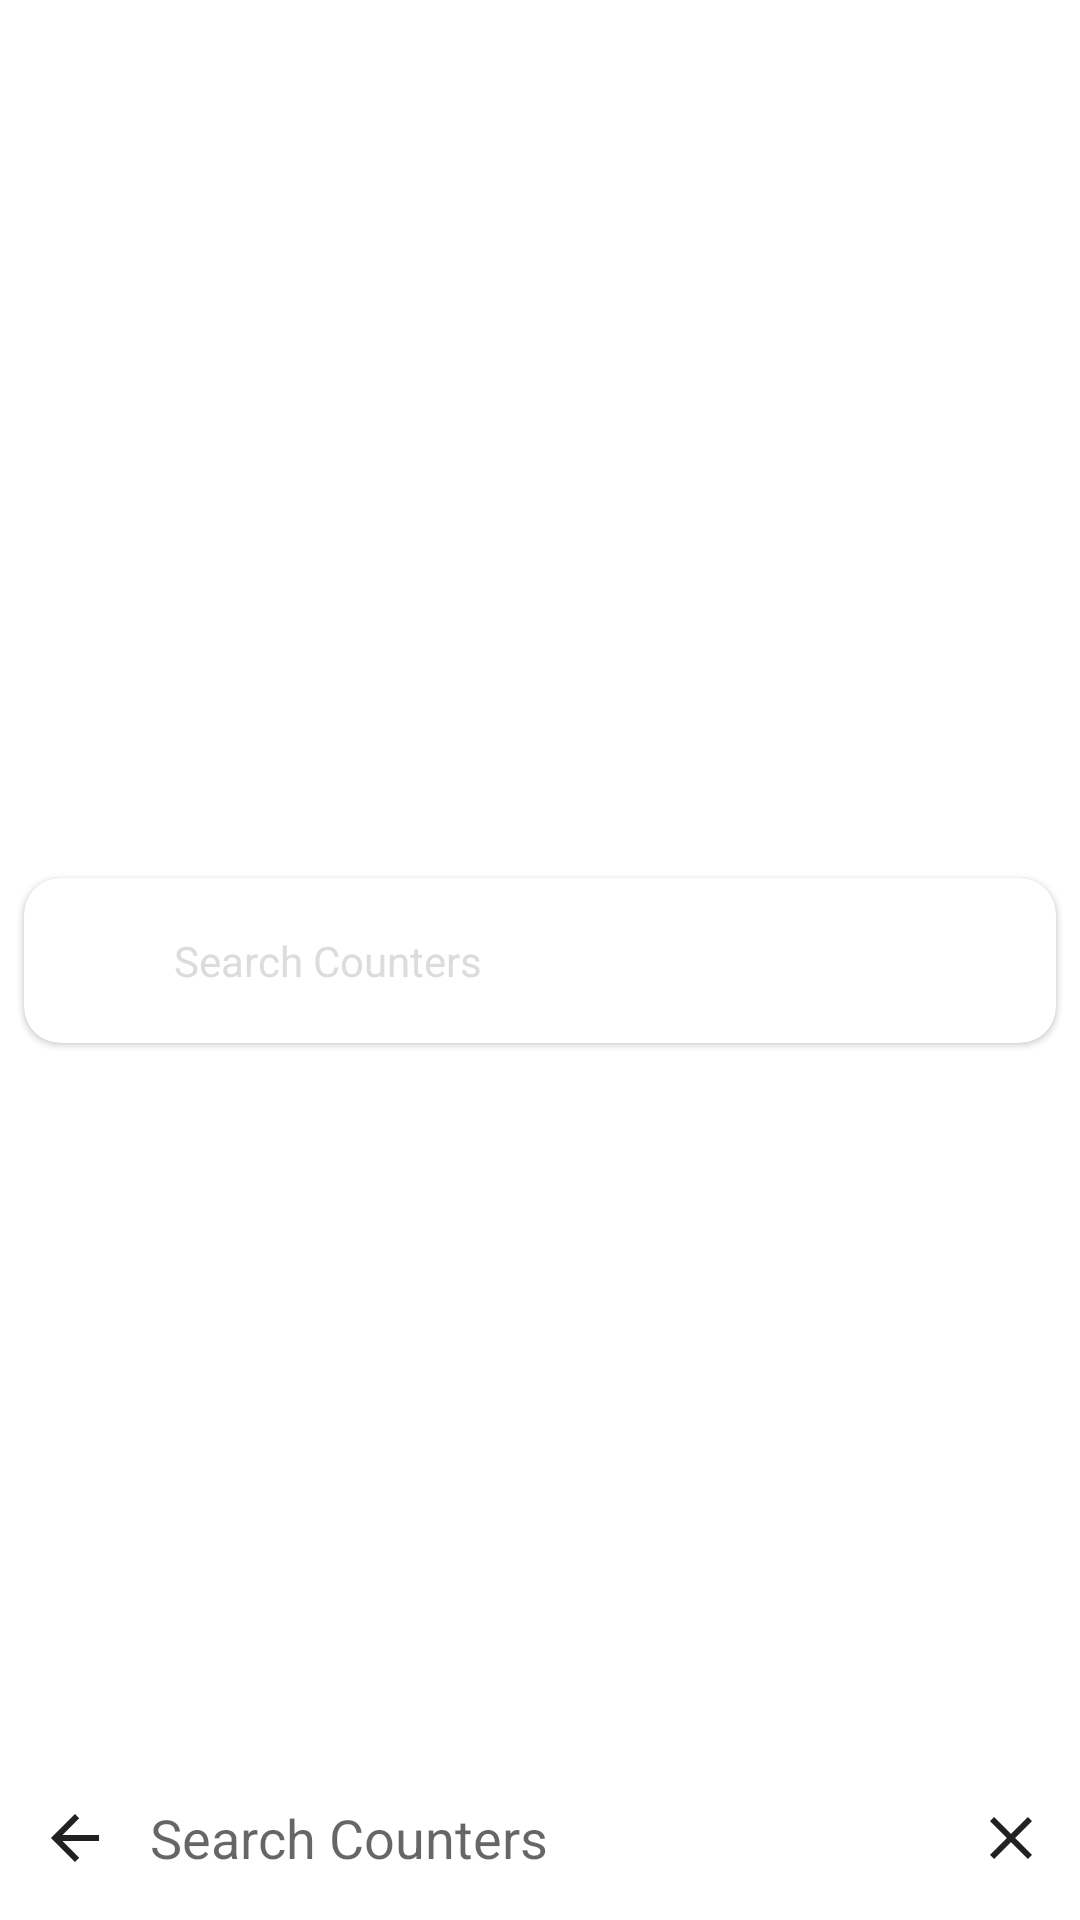

Screen size 1080*1920. Icon name, then its box in pixels as {"x1": x1, "y1": y1, "x2": x2, "y2": y2}:
arrow back: {"x1": 51, "y1": 1814, "x2": 99, "y2": 1862}
close: {"x1": 990, "y1": 1817, "x2": 1032, "y2": 1859}
